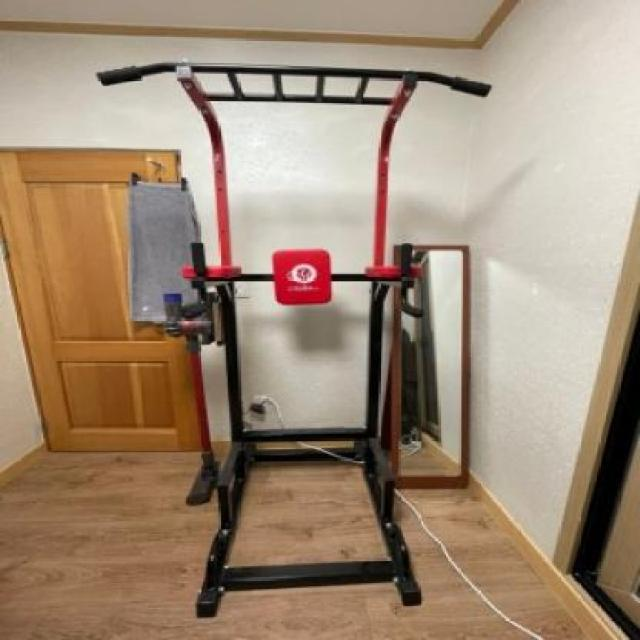chinning dipping: (98, 57, 490, 618)
